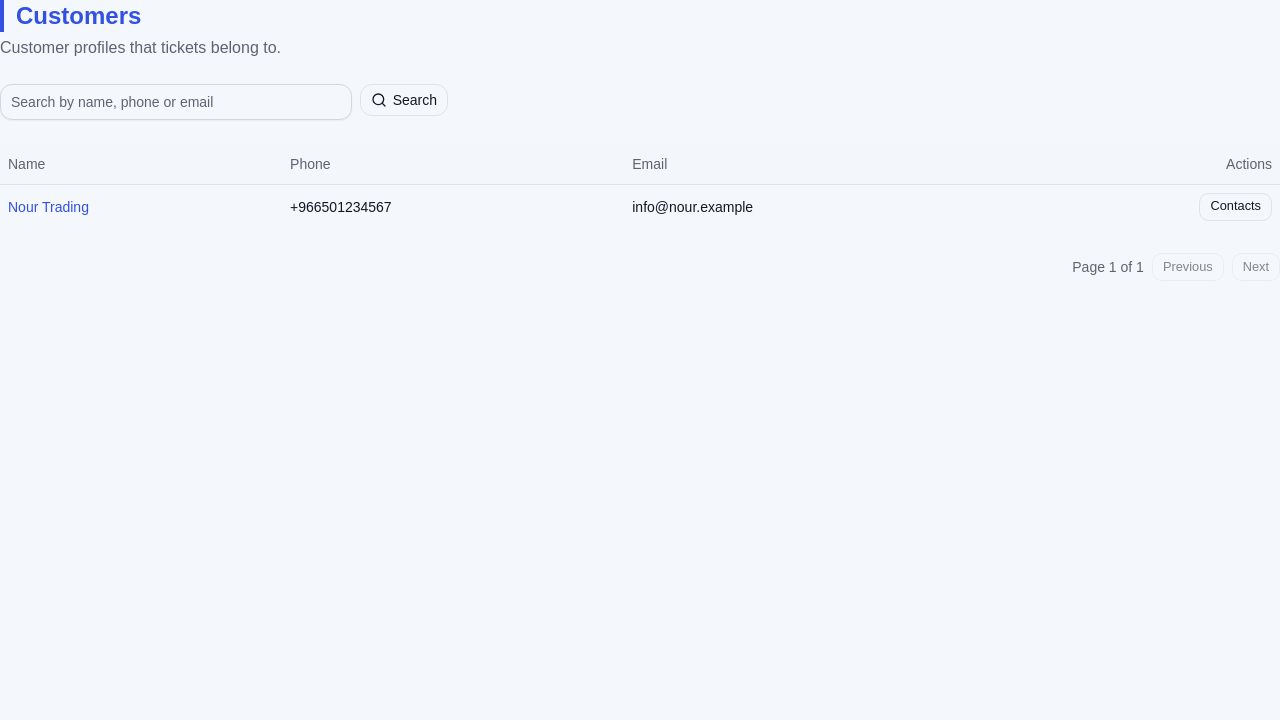
Scenario: Customer contacts › shows the contacts read-only to a user who may only view customers
The width and height of the screenshot is (1280, 720).
Click the button "Contacts". click: (1236, 206)
box: [1200, 192, 1272, 220]
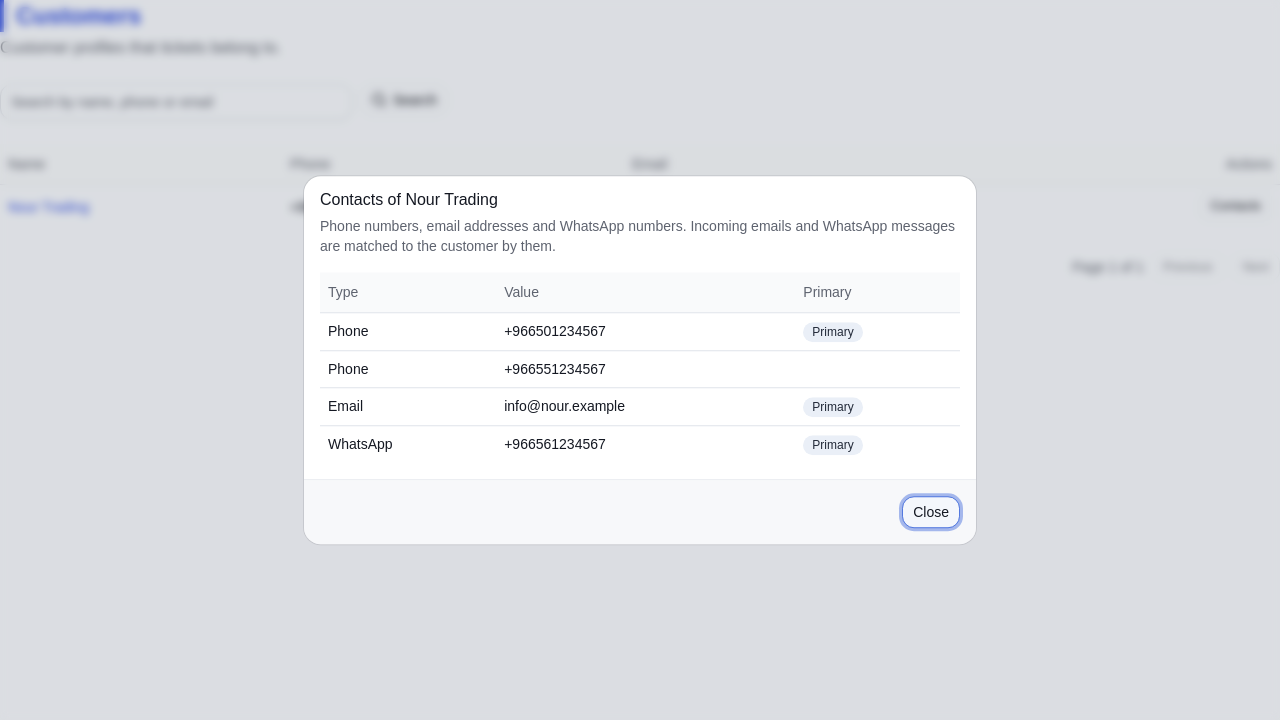
expect the text "+966551234567" is shown: met, box [496, 350, 795, 387]
